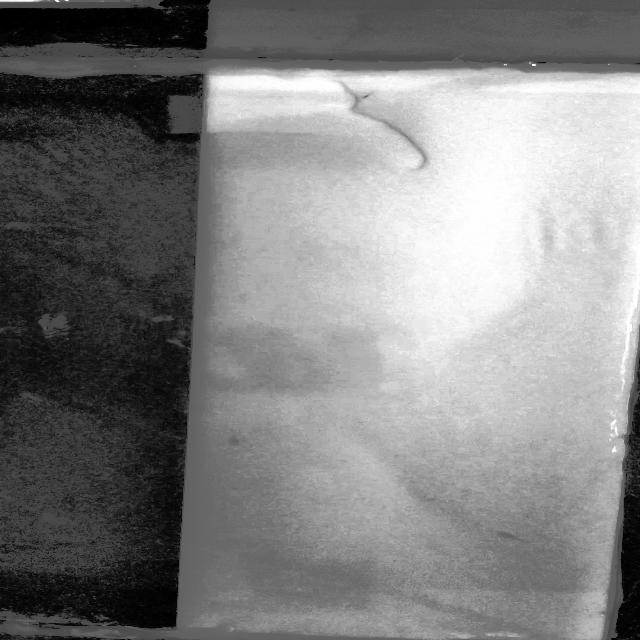shrimp: (493, 526, 539, 549), (214, 432, 249, 448), (354, 88, 386, 105), (185, 400, 208, 417)
